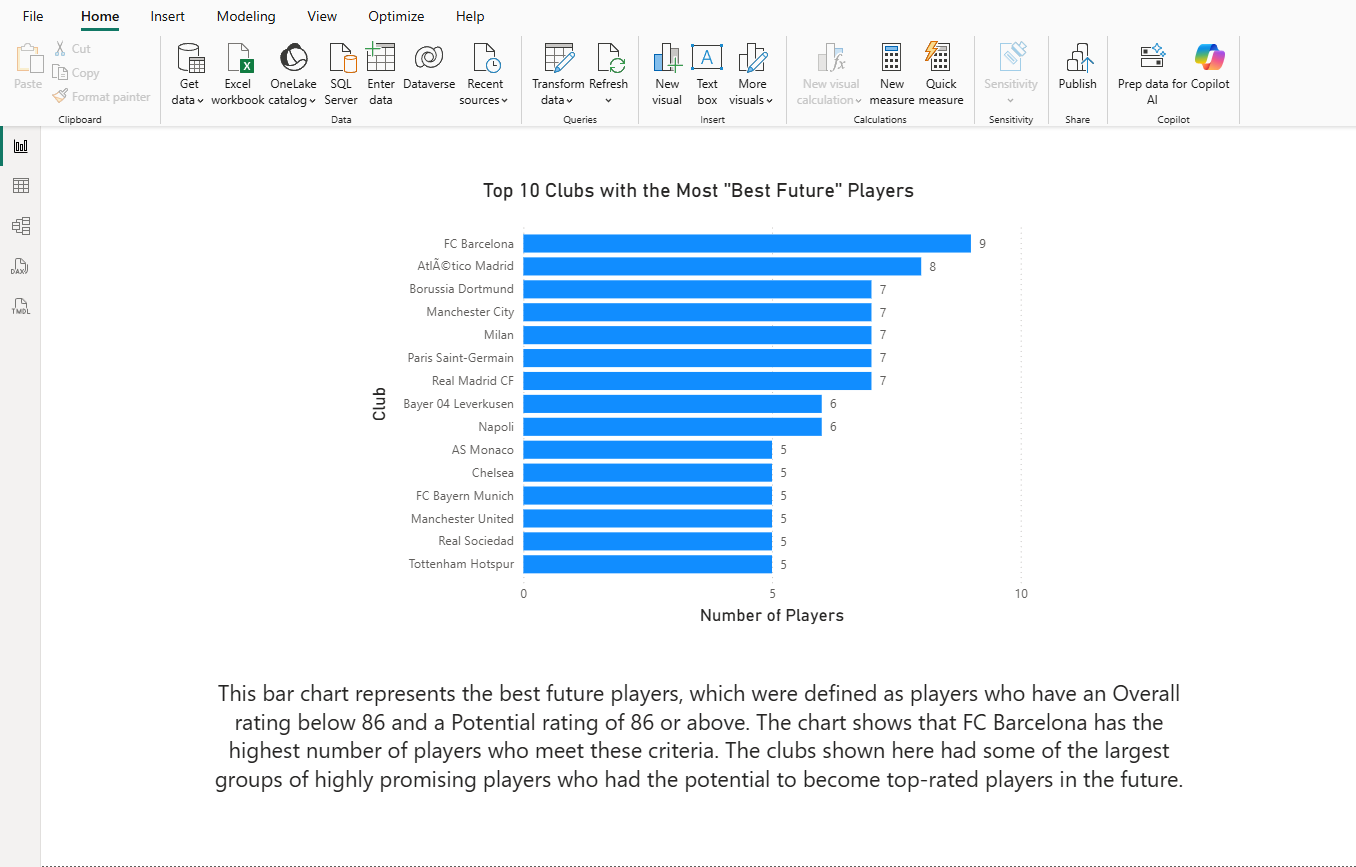

This screenshot's page, from the dashboard's own definition file:
{"tool":"powerbi","page":{"name":"Page 9","canvas":[1280,720],"ordinal":8},"visuals":[{"type":"clusteredBarChart","title":"Top 10 Clubs with the Most \"Best Future\" Players","fields":{"Category":["CompleteDataset.Club"],"Y":["CountNonNull(CompleteDataset.Name)"]},"box":[314.2,50.6,650.7,438.7],"z":0},{"type":"textbox","box":[161.5,531.1,957.1,133.3],"z":1}]}

Visuals, with their boxes on the page's 1280x720 design canvas (x1, y1, x2, y2). These are canvas units, not pixel positions in the 1356x867 screenshot, which may show the page scaled, cropped or inside an application window:
"Top 10 Clubs with the Most "Best Future" Players" clusteredBarChart: [314, 51, 965, 489]
textbox: [162, 531, 1119, 664]
